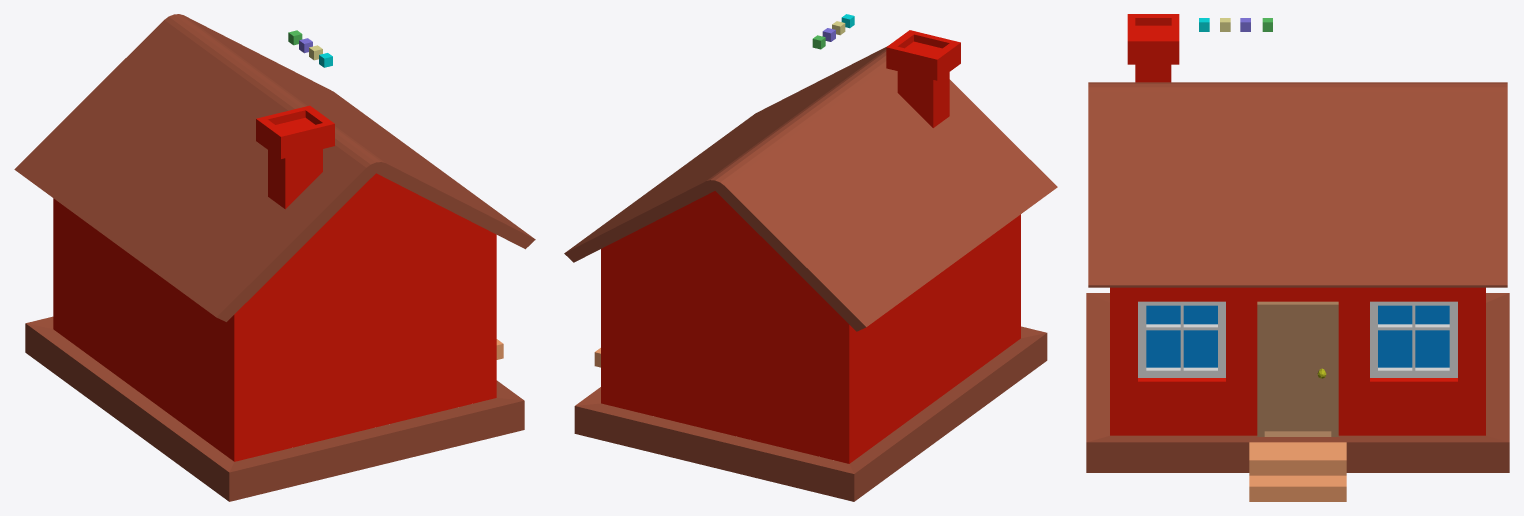
Rendered from red-1-transformed.glb.
The picture shows the model from 3 angles, left to right: view 1: azimuth 30°, elevation 25°; view 2: azimuth 150°, elevation 25°; view 3: azimuth 270°, elevation 25°; orthographic projection. The views are drawn at different scales.
Parts seen in each view (by area): view 1: Walls, Roof, Step, ChimneyTop, Chimney; view 2: Walls, Roof, Step, ChimneyTop, Chimney; view 3: Roof, Walls, Step, Door, WindowGlasses, WindowFrames, Stairs, ChimneyTop, Chimney.
Part boxes in pixels (x1=…): Walls: x1=53, y1=173, x2=496, y2=461; Roof: x1=14, y1=14, x2=535, y2=321; Step: x1=25, y1=316, x2=524, y2=501; ChimneyTop: x1=256, y1=105, x2=334, y2=158; Chimney: x1=268, y1=149, x2=322, y2=209; Walls: x1=601, y1=191, x2=1020, y2=463; Roof: x1=564, y1=46, x2=1057, y2=331; Step: x1=574, y1=326, x2=1047, y2=501; ChimneyTop: x1=886, y1=30, x2=960, y2=80; Chimney: x1=897, y1=71, x2=949, y2=127; Roof: x1=1088, y1=82, x2=1507, y2=287; Walls: x1=1110, y1=287, x2=1485, y2=435; Step: x1=1086, y1=293, x2=1509, y2=472; Door: x1=1257, y1=301, x2=1338, y2=436; WindowGlasses: x1=1146, y1=305, x2=1449, y2=367; WindowFrames: x1=1138, y1=301, x2=1457, y2=377; Stairs: x1=1249, y1=442, x2=1346, y2=501; ChimneyTop: x1=1127, y1=14, x2=1179, y2=64; Chimney: x1=1135, y1=64, x2=1171, y2=82.
Bounding box in the file's own units: 8.26 × 7.95 × 8.
